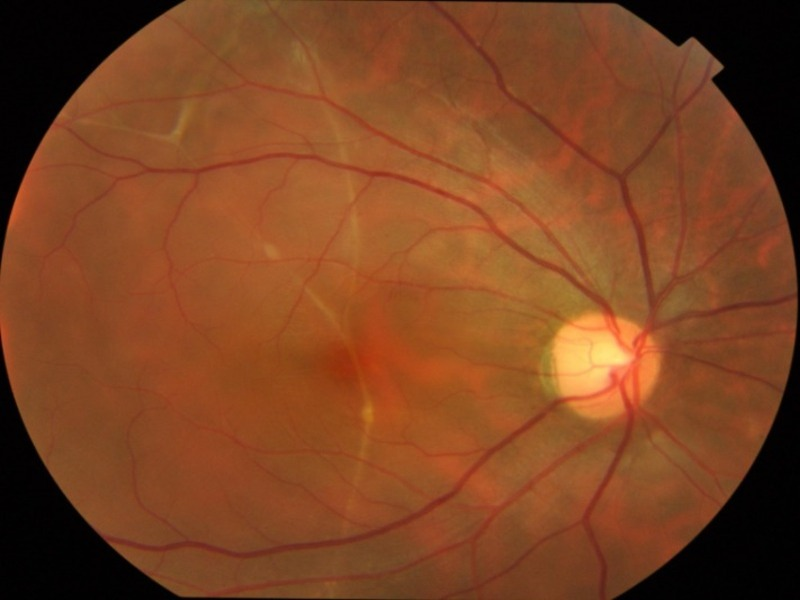Optic Cup: (578, 342, 624, 386)
Optic Disc: (553, 311, 659, 417)
